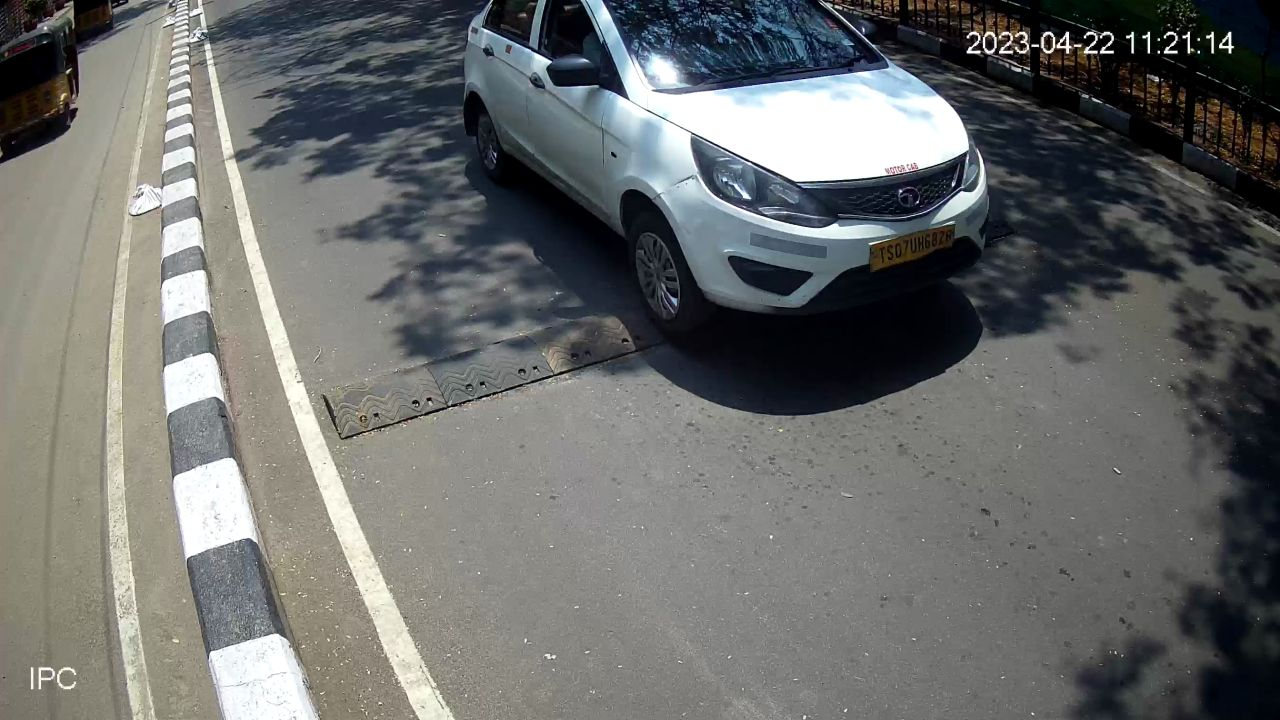license_plate: (863, 215, 961, 281)
